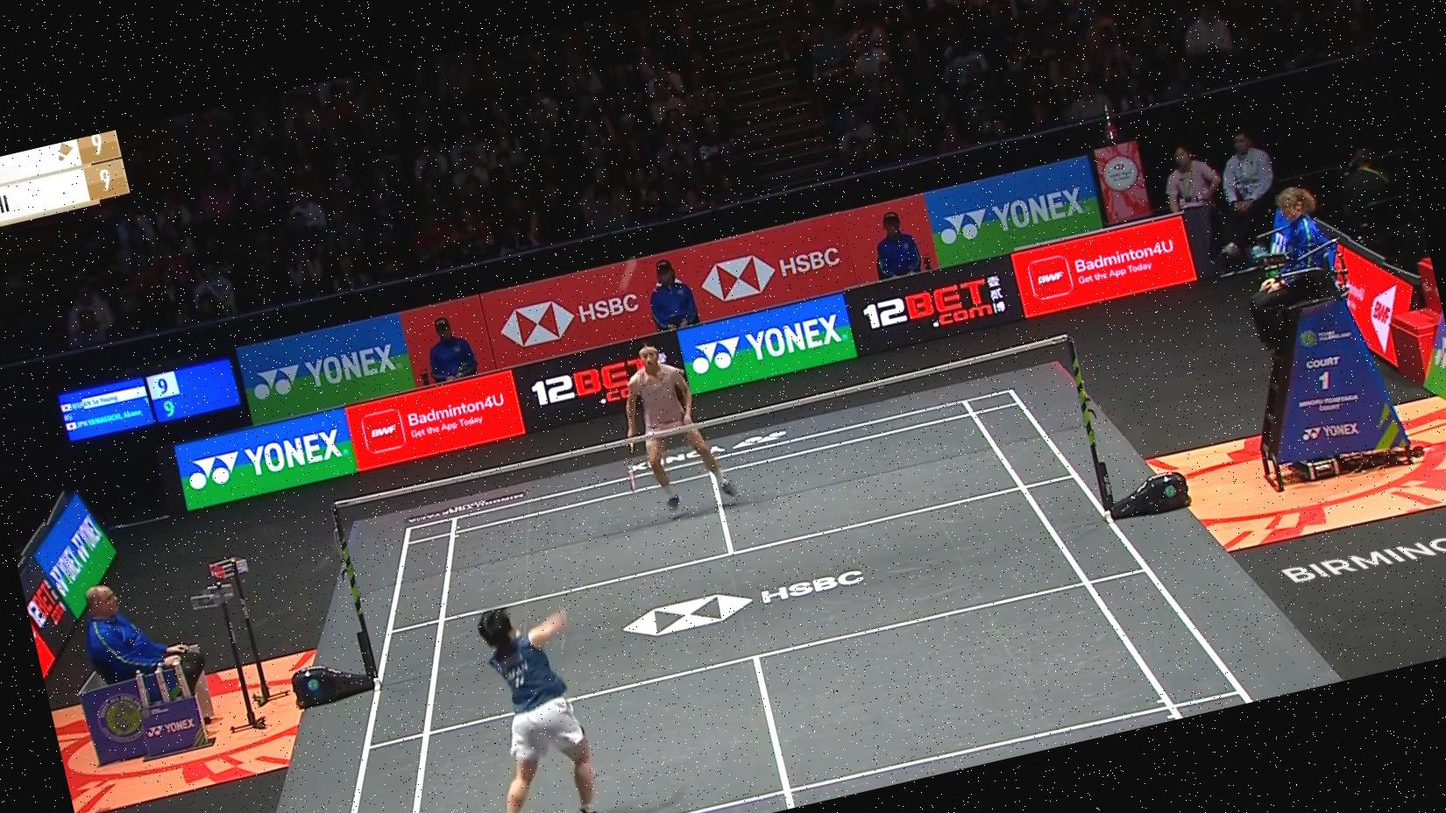Player 1: (591, 321, 761, 536)
Player 2: (449, 569, 653, 813)
shuttle: (608, 250, 645, 299)
